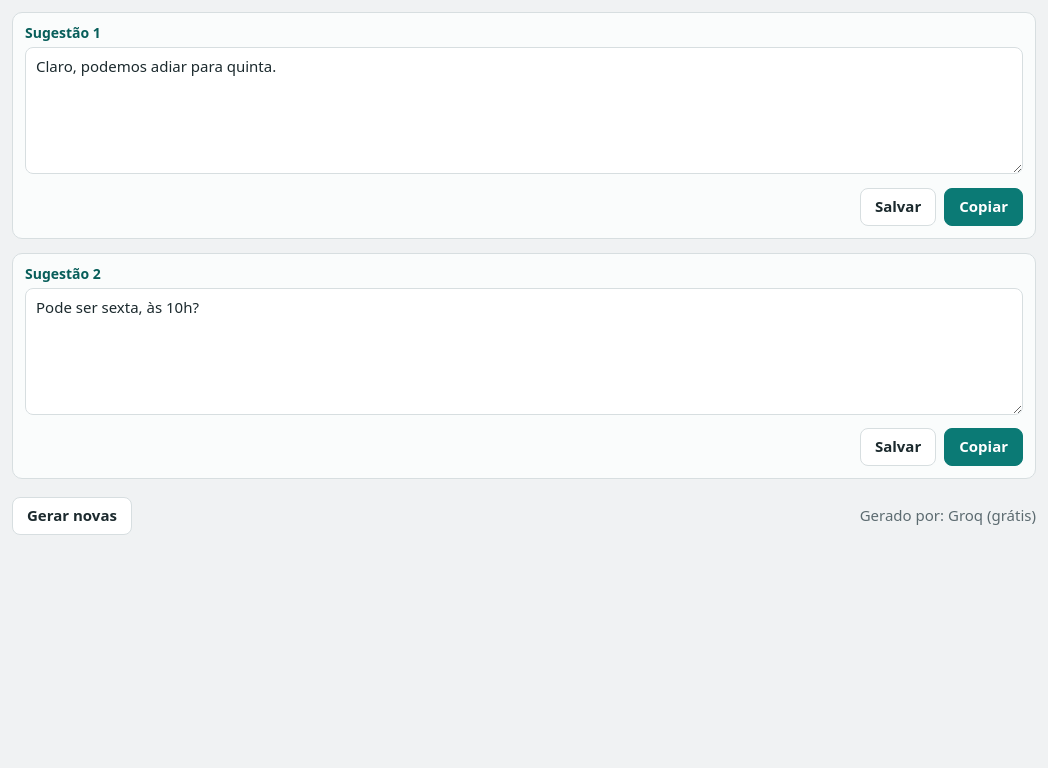
Suggestions › "Mostrar as outras sugestões" traz de volta os cartões sem desfazer o salvo
The width and height of the screenshot is (1048, 768).
Click the 1st button "Salvar": (898, 207) top-left (860, 188), bottom-right (936, 226)
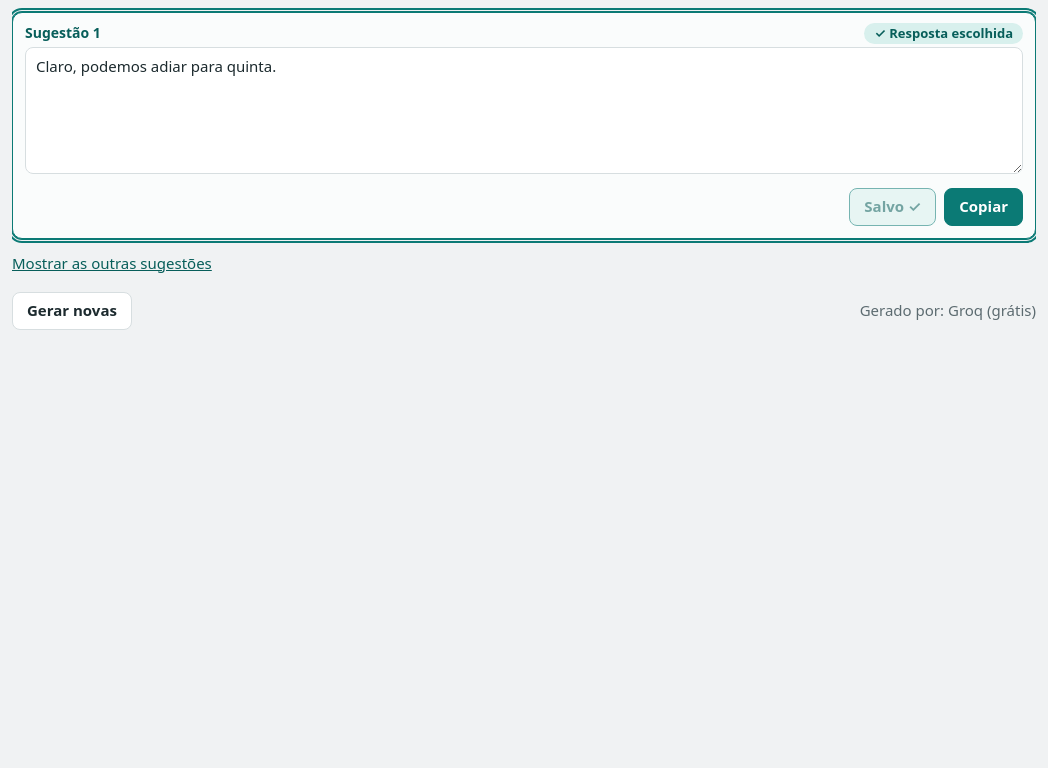
Click the button "Mostrar as outras sugestões": (112, 263) top-left (12, 252), bottom-right (212, 274)
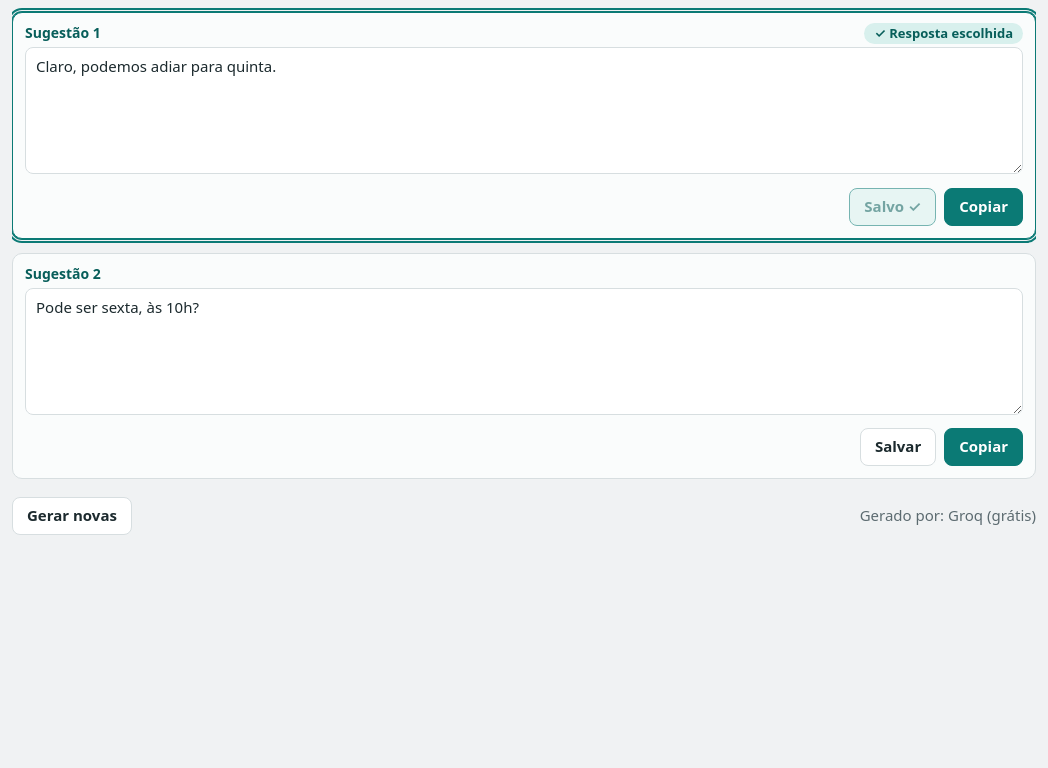
Expected: the button "Salvo ✓" is shown, top-left (849, 188), bottom-right (936, 226)
Expected: the number of text boxes is 2, top-left (25, 47), bottom-right (1023, 174); top-left (25, 288), bottom-right (1023, 415)
Expected: the button "Mostrar as outras sugestões" is gone
